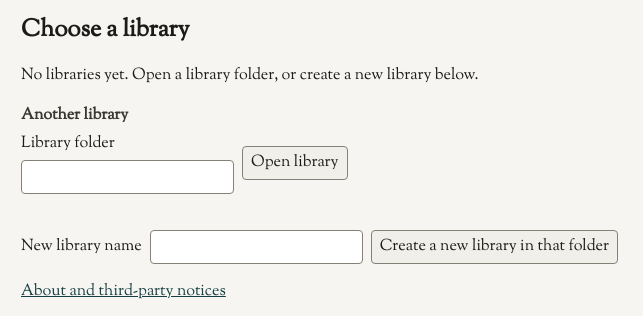
LibraryChooser › R447: the room is said for a typed full path in a polite status, after a pause, and follows the path
The image size is (643, 316).
Expected: the text "No libraries yet" is shown, [21,64,479,87]
// Not a full path: nothing is asked.
Type "Research" into the field labelled "Library folder" at (128,177), box [21,160,234,194]
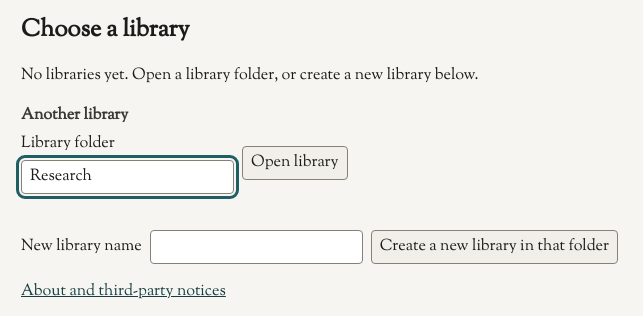
Expected: the text "Free space on that disk" is not shown
Replace the text in the field labelled "Library folder" with "/Volumes/Big/Research library" at (128,177), box [21,160,234,194]
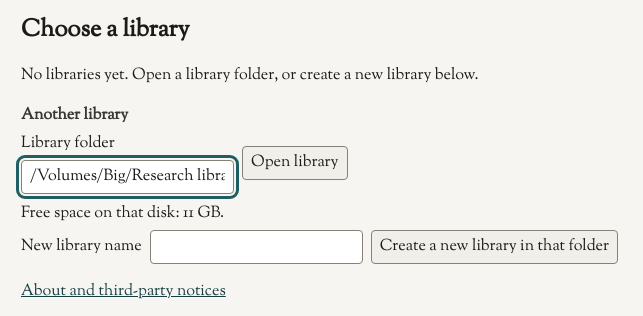
Now the text "Free space on that disk: 11 GB." is shown, box [21,202,224,225]
Clear the field labelled "Library folder" at (128,177), box [21,160,234,194]
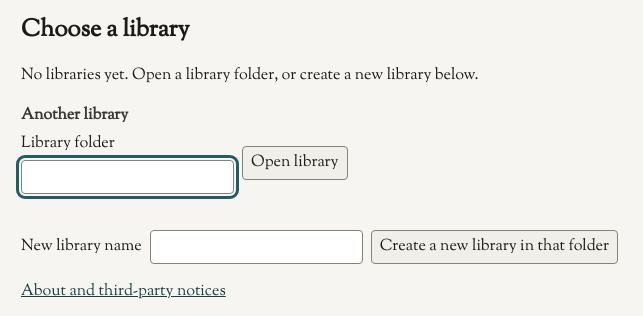
Now the text "Free space on that disk" is gone
Type "/Volumes/Small/Research library" into the field labelled "Library folder" at (128,177), box [21,160,234,194]
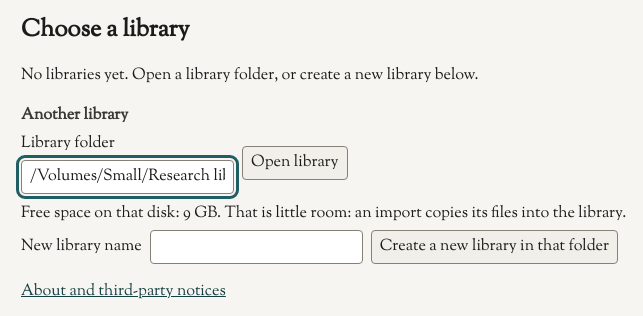
Now the text "Free space on that disk: 9 GB. That is little room: an import copies its files into the library." is shown, box [21,202,626,225]
